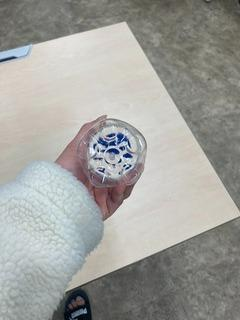BIODEGRADABLE: (76, 110, 148, 198)
